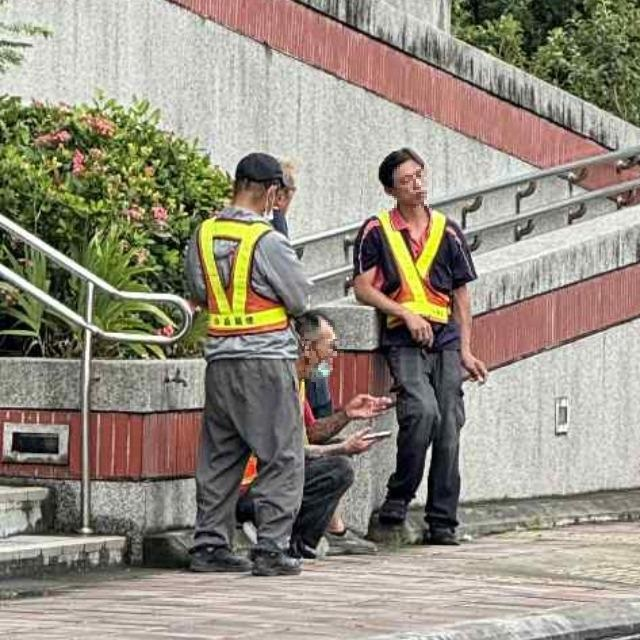Vest: (362, 210, 471, 344), (186, 206, 294, 334)
